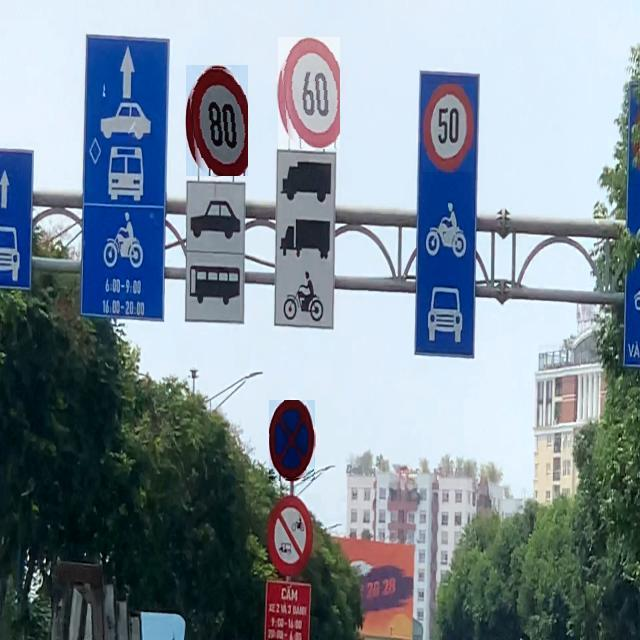P-127: (278, 37, 340, 149), (186, 65, 248, 176), (423, 85, 474, 173)
P-130: (270, 400, 316, 481)
